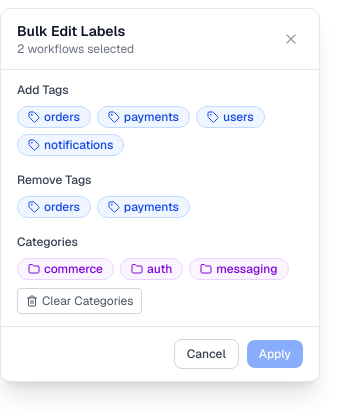
Test: BulkLabelEditor › save and cancel › shows loading state while saving
The width and height of the screenshot is (337, 416).
Select something to enable apply
Click the element showing "users".
click(230, 117)  # box x1=196 y1=106 x2=265 y2=128
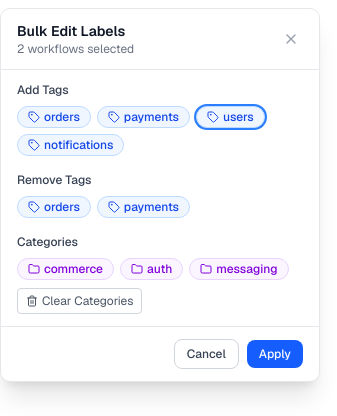
Click the button "Apply".
click(275, 354)  # box x1=247 y1=340 x2=303 y2=368
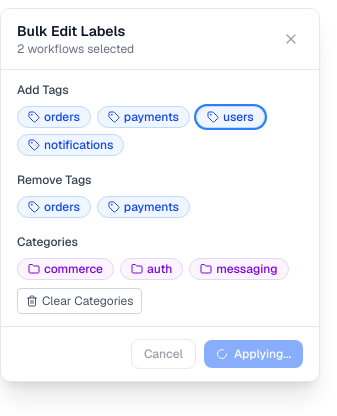
expect the button "Applying..." is shown: met, box x1=204 y1=340 x2=303 y2=368
